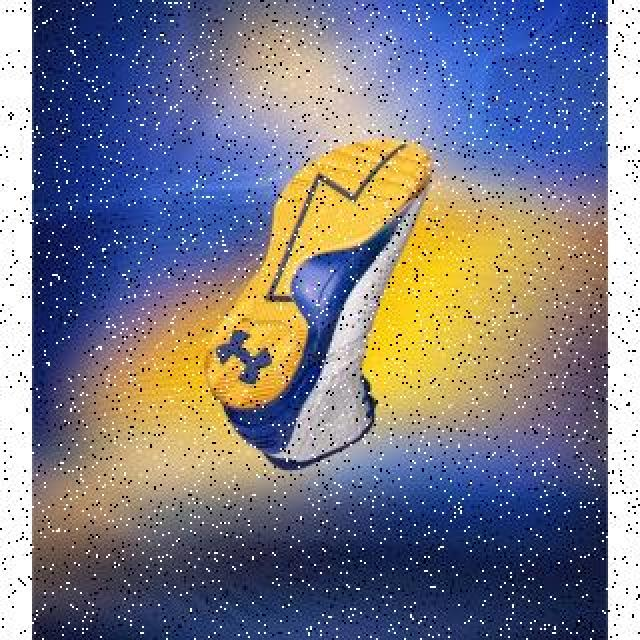shoe: (204, 138, 434, 472)
